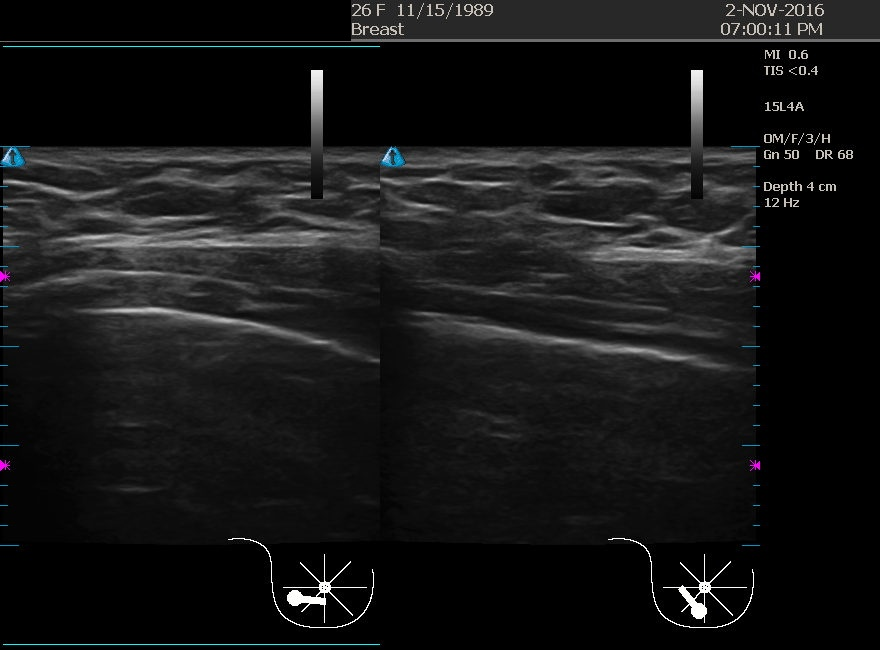BIRADS_3: (87, 152, 287, 352), (489, 151, 689, 351)
